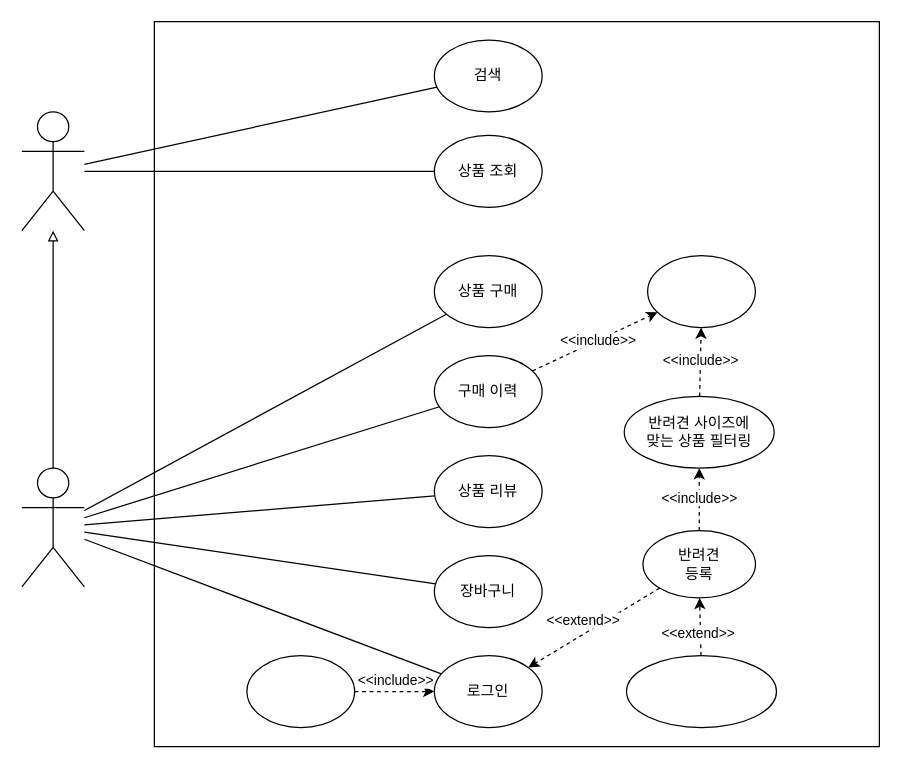
The diagram is 901 pixels wide and 769 high, and some of its shapes have lost their labels. Here are the shapes that lost their labels. From the top down, the centre of each, then its label:
At (52,171): "고객".
At (700,291): "상품 추천".
At (52,527): "회원".
At (300,691): "회원가입".
At (700,691): "반려견 사이즈 AI 측정".
